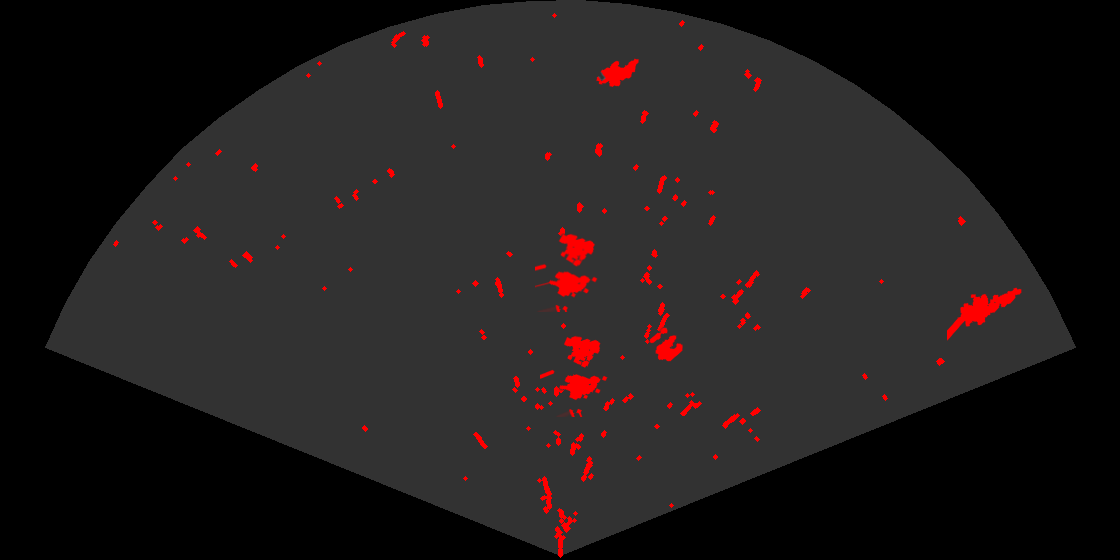AUV: (595, 57, 640, 89)
ball: (648, 326, 684, 363)
cage: (540, 334, 609, 417), (535, 232, 599, 312)
frogman: (947, 286, 1023, 342)
